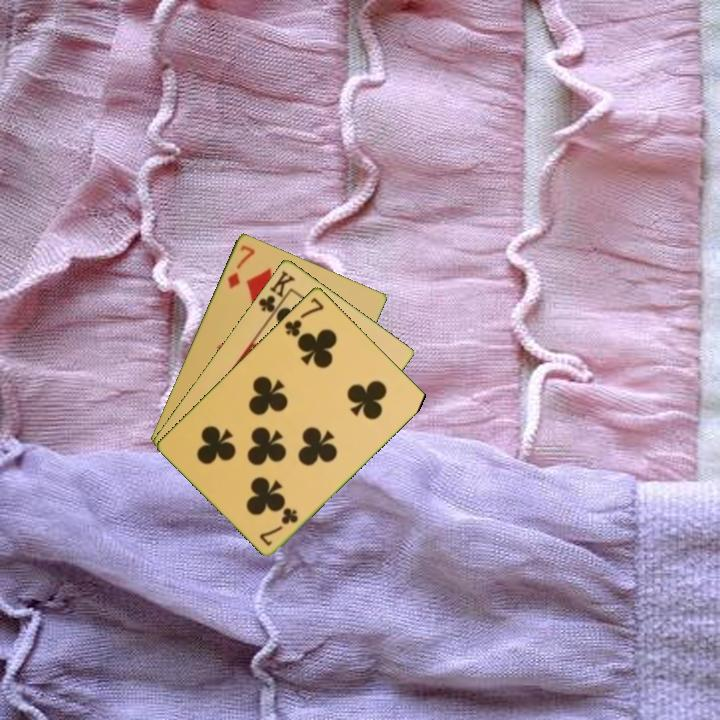7c: (280, 294, 327, 339), (256, 503, 301, 548)
7d: (224, 241, 258, 291)
Kc: (254, 266, 298, 321)
